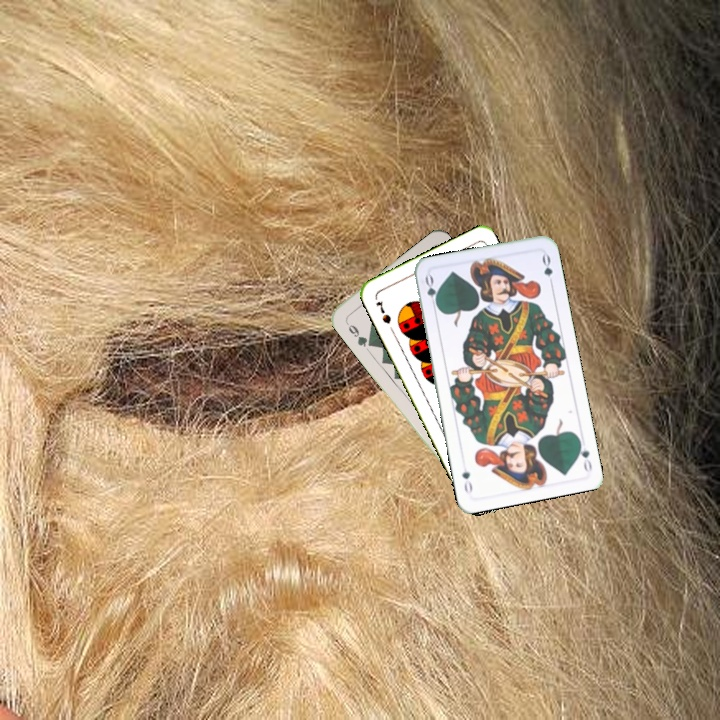G9: (341, 317, 373, 350)
GO: (421, 271, 442, 312), (574, 434, 594, 474)
S7: (372, 297, 394, 326)
